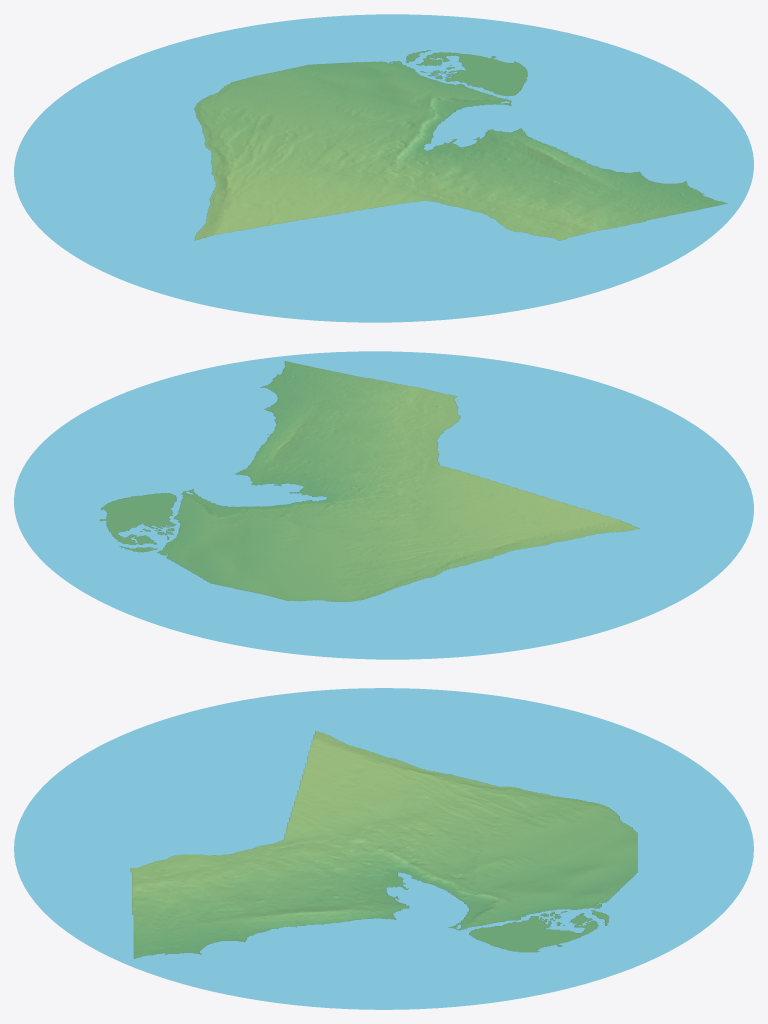
The model's file is KWT-terrain.glb.
3 renders of one model, top to bottom at view 1: azimuth 30°, elevation 25°; view 2: azimuth 150°, elevation 25°; view 3: azimuth 270°, elevation 25°, orthographic. The views are drawn at different scales.
Visible parts, largest first — view 1: Relevo com hidrografia; view 2: Relevo com hidrografia; view 3: Relevo com hidrografia.
Boxes of the visible parts, x1,y1,x2,y2 form: Relevo com hidrografia: (14, 14, 753, 322); Relevo com hidrografia: (14, 351, 753, 659); Relevo com hidrografia: (14, 688, 753, 1009).
Size of the model in its own units: 2.34 by 0.0304 by 2.27.
Materials: 2 (1 with a texture image).
